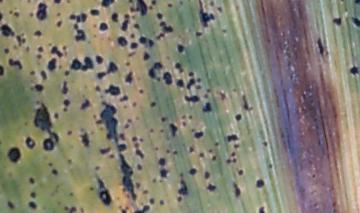tarspot: (97, 101, 119, 143), (119, 153, 137, 200), (34, 103, 52, 132), (198, 1, 215, 26), (1, 23, 15, 39), (80, 56, 94, 71), (133, 1, 147, 15), (8, 148, 21, 163), (100, 189, 112, 205), (50, 44, 63, 58), (106, 84, 121, 96), (242, 94, 252, 112), (37, 3, 48, 19), (178, 179, 189, 195), (79, 131, 89, 148), (10, 57, 23, 70), (184, 93, 200, 103), (43, 138, 55, 151), (69, 57, 81, 70), (106, 60, 118, 73), (133, 147, 145, 159), (97, 176, 107, 190), (316, 38, 324, 55), (25, 136, 36, 148), (48, 57, 57, 71), (76, 29, 85, 43), (163, 71, 172, 85), (117, 35, 128, 46), (49, 130, 59, 142), (233, 182, 240, 198), (134, 206, 150, 213), (80, 99, 90, 110), (163, 23, 173, 34), (111, 12, 120, 24), (205, 182, 217, 191), (61, 80, 68, 95), (125, 72, 133, 85), (169, 123, 177, 136), (202, 102, 212, 112), (121, 20, 130, 31), (117, 143, 128, 152), (102, 1, 116, 8), (226, 134, 238, 142), (99, 23, 109, 32), (95, 54, 104, 64), (332, 17, 342, 26), (137, 36, 147, 45), (186, 79, 195, 89), (255, 178, 264, 188), (149, 68, 157, 79), (193, 130, 204, 138), (40, 69, 47, 81), (34, 83, 43, 92), (100, 146, 110, 154), (350, 66, 358, 76), (352, 16, 360, 26), (155, 32, 165, 40), (7, 200, 15, 210), (81, 11, 88, 22), (220, 90, 227, 101), (176, 43, 184, 52), (28, 201, 37, 209), (17, 33, 22, 47), (97, 72, 107, 79), (147, 38, 154, 48), (89, 9, 100, 15), (130, 41, 138, 49), (123, 12, 131, 20), (158, 158, 166, 166), (176, 79, 184, 87), (143, 51, 150, 60), (154, 62, 163, 69), (237, 168, 244, 177), (160, 169, 167, 178), (62, 99, 70, 106), (120, 95, 128, 102), (234, 114, 242, 121), (148, 197, 155, 205), (188, 145, 194, 154), (204, 170, 210, 179), (190, 167, 196, 176), (69, 13, 76, 20), (126, 117, 133, 124), (174, 62, 181, 69), (51, 168, 58, 175), (69, 206, 76, 213), (1, 64, 5, 76), (73, 22, 79, 30), (54, 112, 60, 120), (120, 133, 126, 141), (128, 6, 136, 12), (157, 12, 163, 20), (35, 30, 42, 36), (56, 10, 62, 17), (138, 88, 145, 94), (134, 23, 141, 29), (159, 21, 166, 27), (217, 6, 223, 13), (199, 151, 205, 158), (259, 206, 265, 213), (159, 199, 165, 206), (94, 165, 101, 171), (57, 20, 62, 28), (25, 45, 30, 53), (195, 31, 203, 36), (135, 181, 140, 189), (29, 176, 34, 184), (1, 10, 4, 22), (8, 9, 14, 15), (14, 11, 20, 17), (4, 48, 10, 54), (30, 70, 36, 76), (36, 53, 42, 59), (76, 14, 80, 23), (95, 86, 101, 92), (129, 51, 135, 57), (125, 61, 131, 67), (137, 164, 143, 170), (188, 71, 194, 77), (188, 114, 194, 120), (203, 93, 209, 99), (211, 155, 217, 161), (310, 172, 316, 178), (47, 161, 53, 167), (39, 45, 44, 52), (62, 44, 67, 51), (123, 124, 130, 129), (132, 135, 137, 142), (147, 4, 152, 11), (160, 117, 167, 122), (213, 141, 220, 146), (233, 143, 240, 148), (268, 163, 273, 170), (121, 208, 128, 213), (29, 12, 34, 18), (65, 70, 70, 76), (130, 33, 135, 39), (132, 101, 137, 107), (150, 102, 156, 107), (139, 137, 144, 143), (134, 142, 139, 148), (131, 14, 136, 20), (149, 128, 155, 133), (167, 3, 173, 8), (209, 1, 215, 6), (179, 1, 185, 6), (165, 148, 170, 154), (172, 150, 178, 155), (206, 87, 211, 93), (232, 157, 237, 163), (152, 177, 157, 183), (68, 158, 73, 164), (92, 113, 97, 119), (31, 192, 36, 198), (69, 191, 74, 197), (122, 104, 128, 109), (150, 1, 157, 5), (176, 197, 183, 201), (142, 190, 149, 194), (63, 107, 68, 112), (67, 130, 72, 135), (157, 77, 162, 82), (355, 1, 360, 6), (179, 68, 184, 73), (222, 28, 227, 33), (159, 128, 164, 133), (196, 85, 201, 90), (230, 151, 235, 156), (263, 141, 268, 146), (179, 172, 184, 177), (64, 206, 69, 211), (92, 33, 97, 38), (23, 37, 26, 45), (66, 1, 72, 5), (109, 154, 115, 158), (197, 77, 201, 83), (209, 147, 213, 153), (89, 187, 95, 191), (80, 207, 84, 213), (59, 64, 63, 70), (92, 24, 98, 28), (54, 1, 61, 4), (155, 146, 159, 151), (182, 122, 187, 126), (182, 115, 186, 120), (226, 160, 231, 164), (25, 1, 32, 3), (1, 1, 4, 5), (25, 122, 28, 126), (128, 1, 133, 3)
